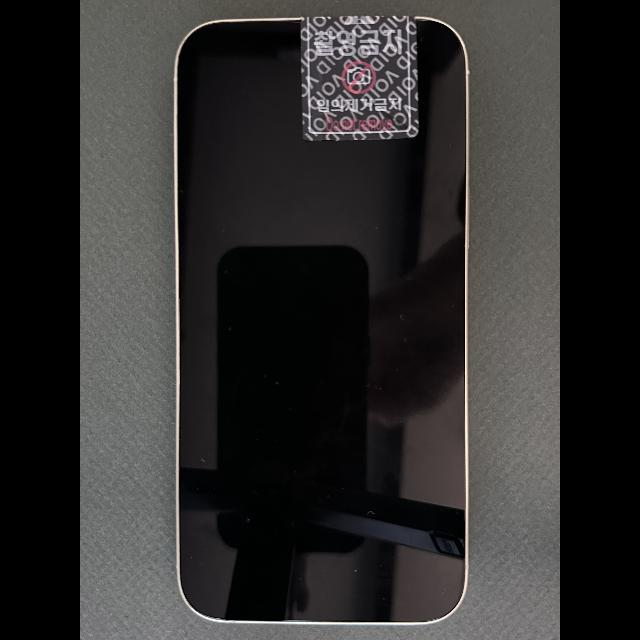phone: (175, 16, 469, 624)
sticker: (300, 16, 419, 141)
